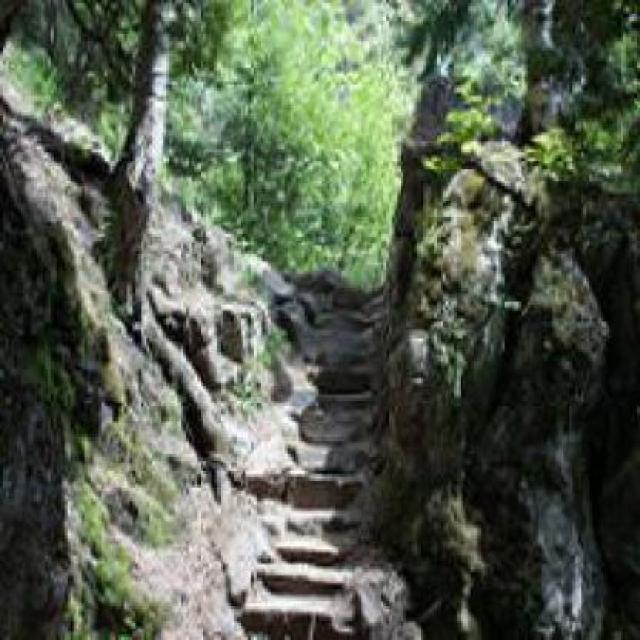stair: (265, 315, 369, 626)
